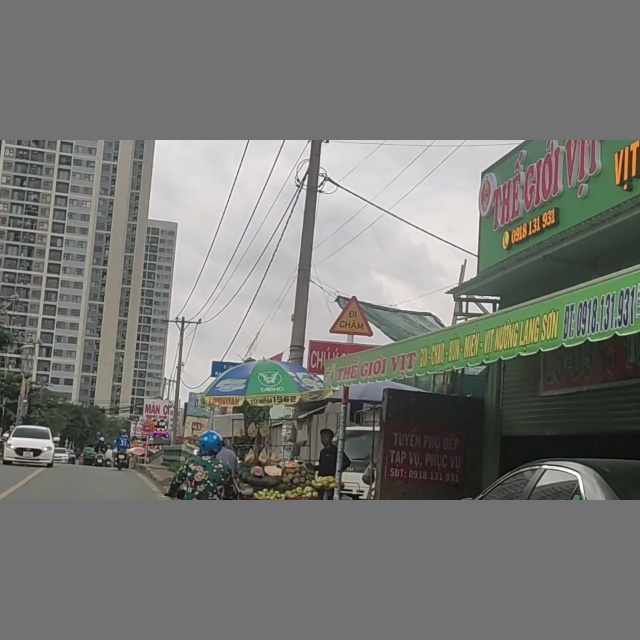W.245a: (329, 295, 373, 337)
